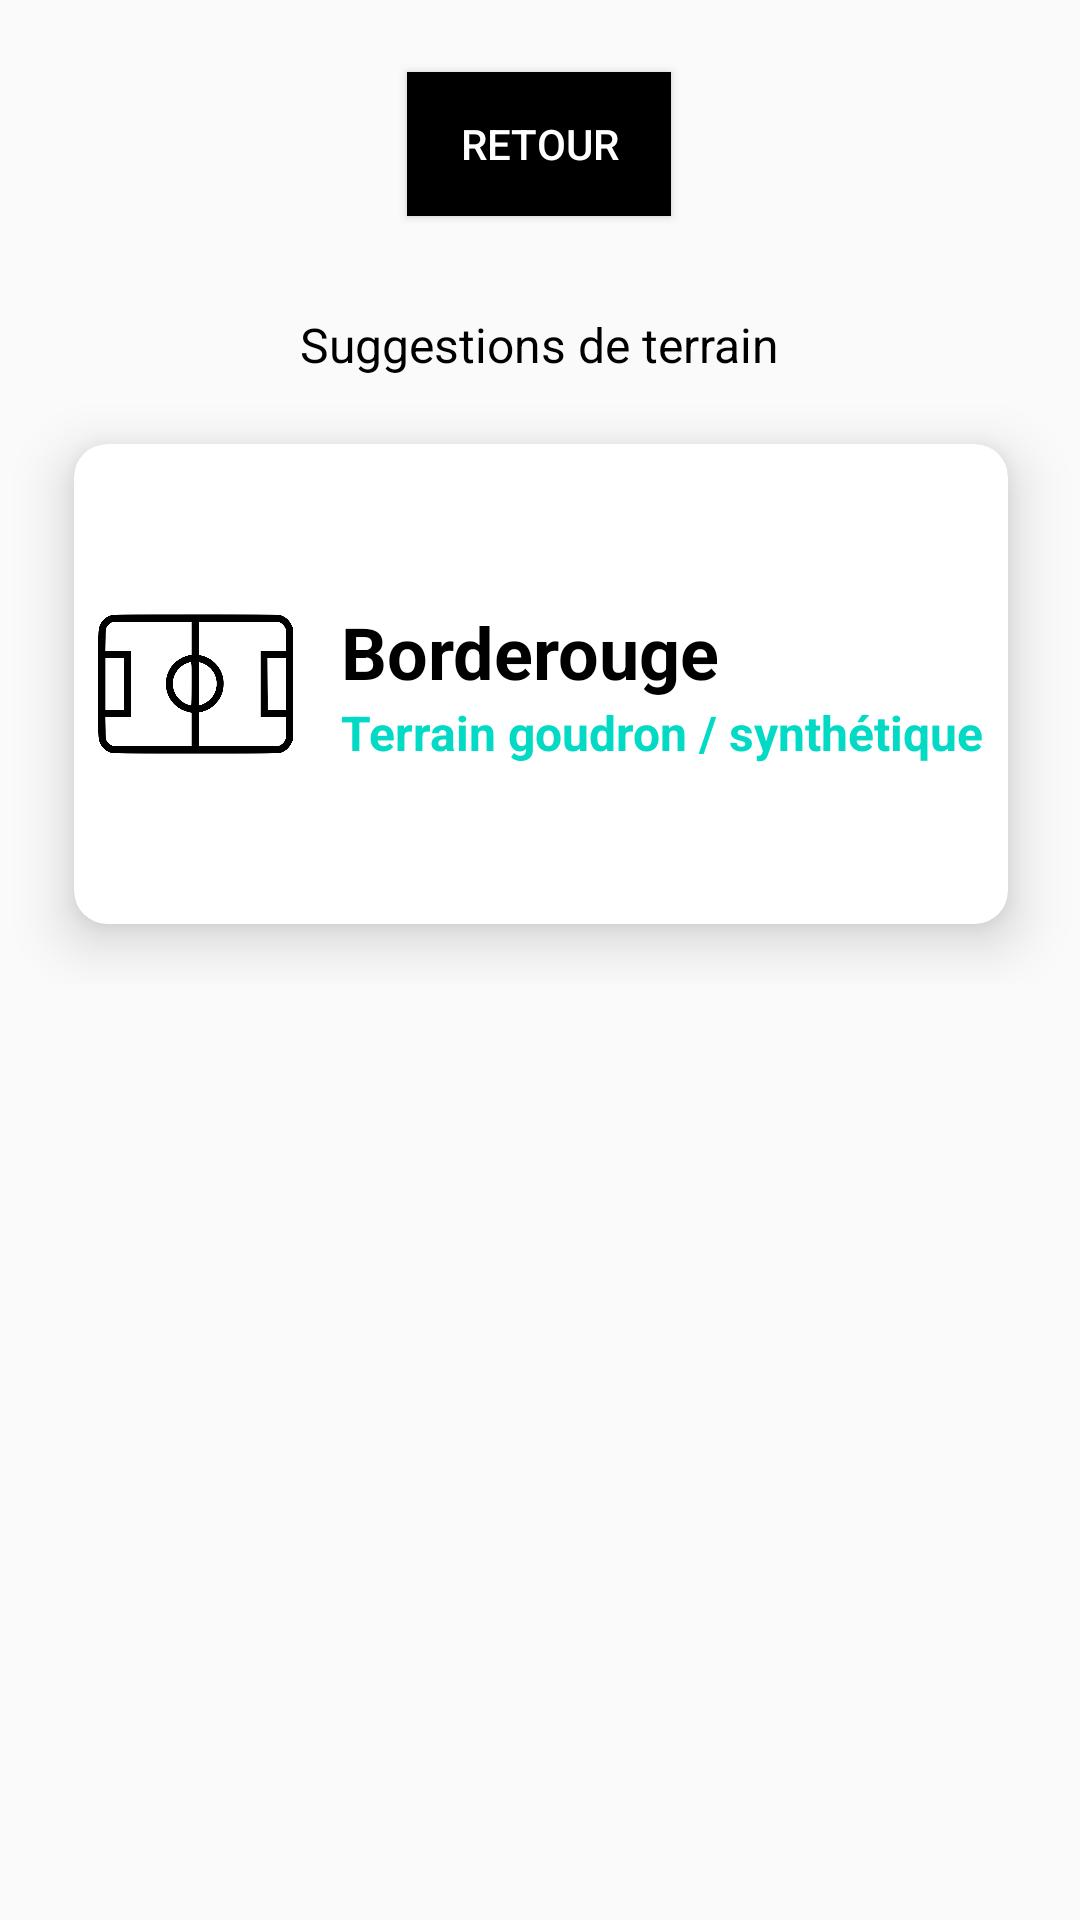

Icons on this 1080w x 1920h Android screen, each with its box as (x1, y1, x2, y2):
field: (98, 614, 293, 754)
